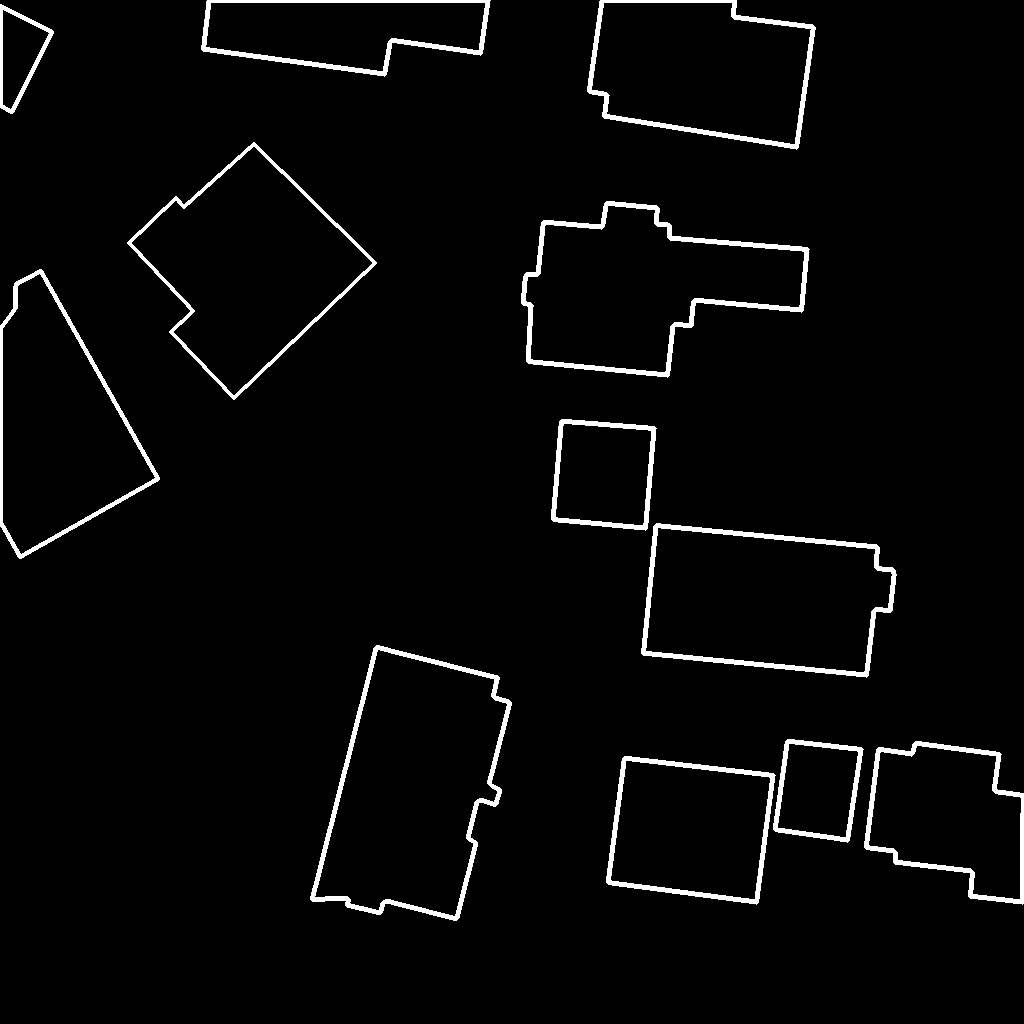building: (129, 144, 376, 399), (312, 647, 511, 920), (523, 203, 808, 376), (0, 271, 159, 558), (643, 525, 895, 676), (589, 0, 815, 148), (866, 743, 1024, 903), (608, 758, 774, 903), (203, 0, 489, 75), (553, 421, 655, 529), (775, 741, 862, 841), (0, 6, 53, 113)
